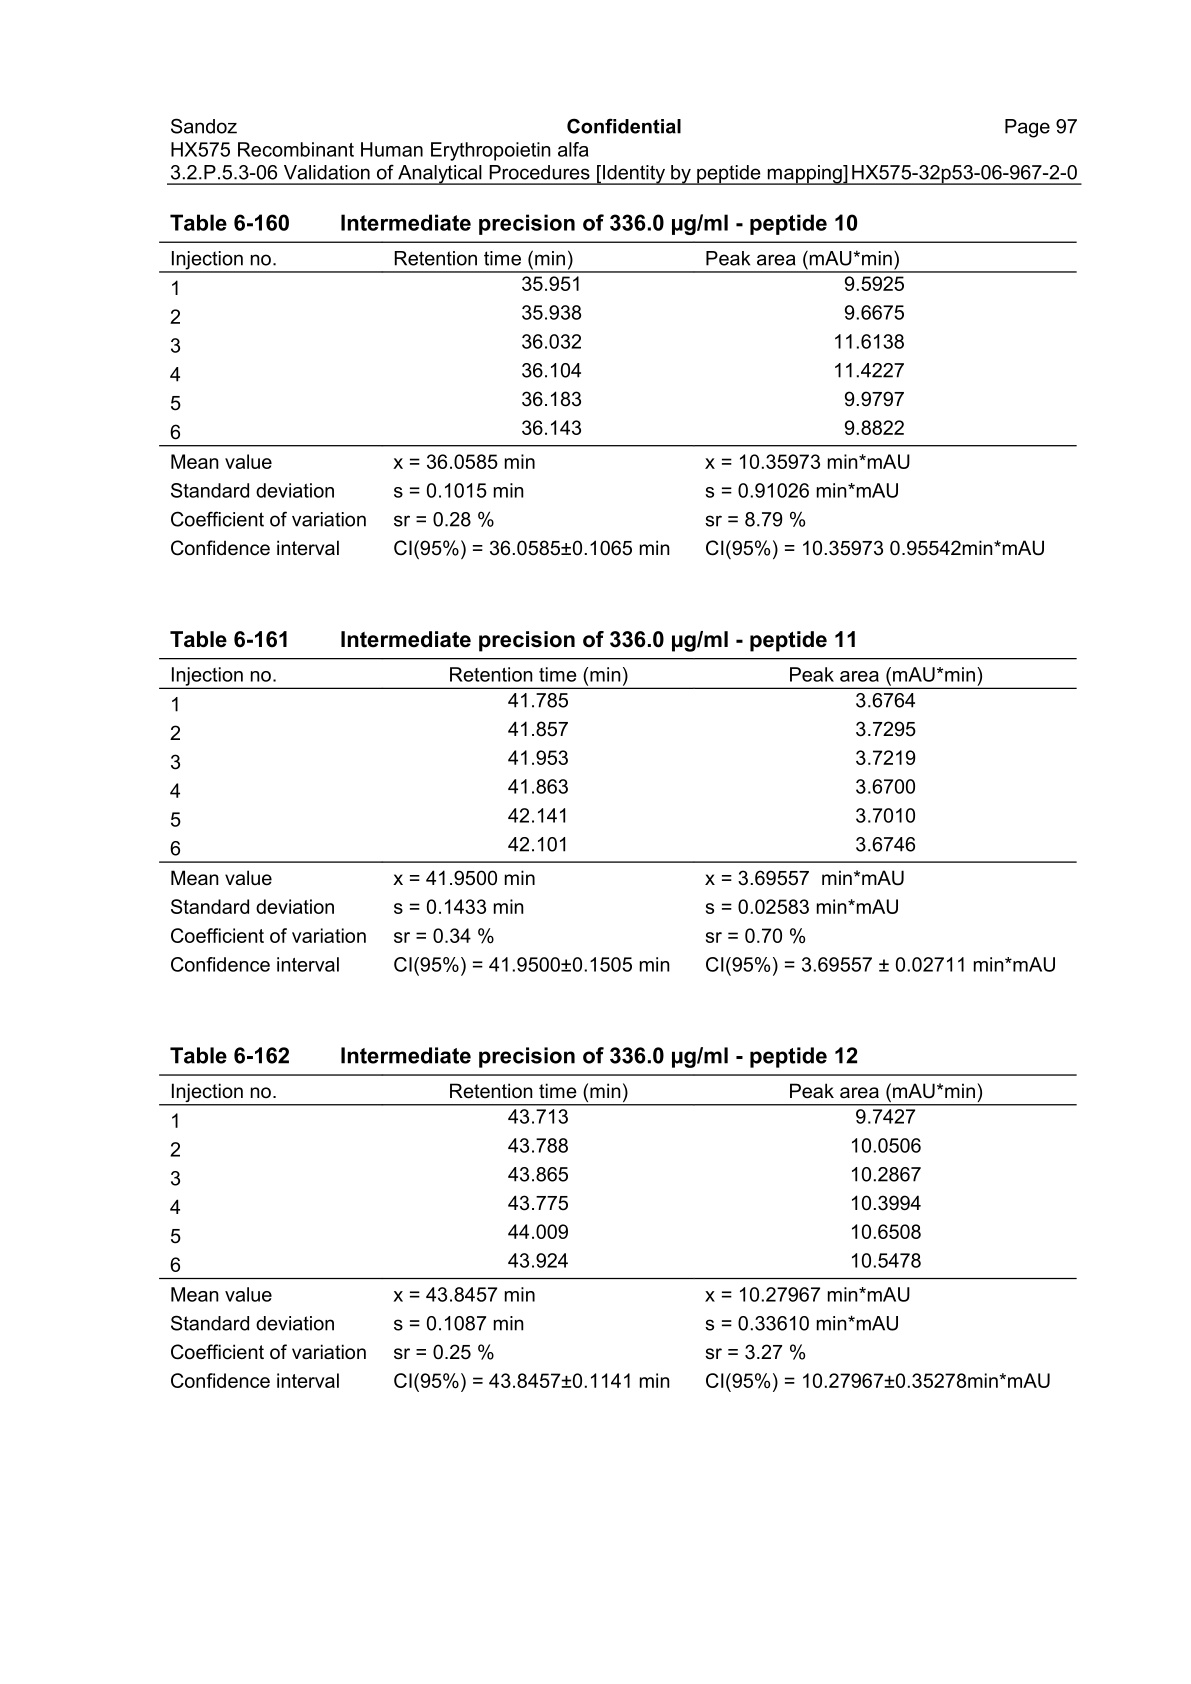partial_lined: (159, 240, 1076, 563), (159, 1073, 1078, 1395), (159, 657, 1078, 978)
